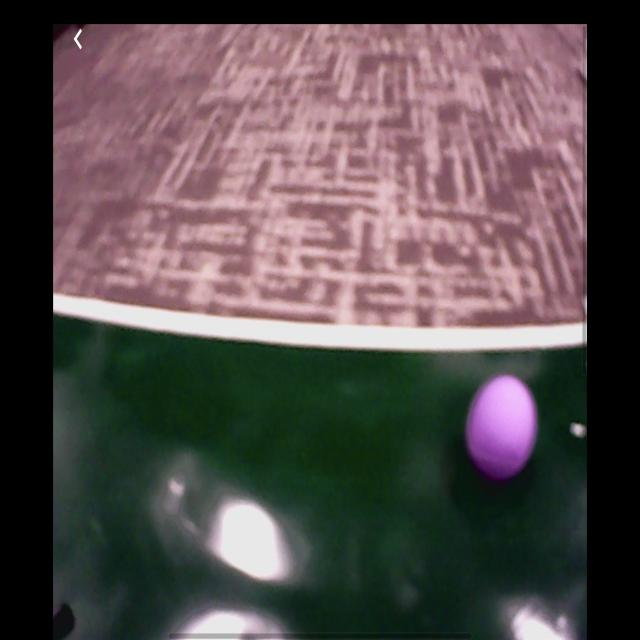ball: (465, 373, 539, 482)
